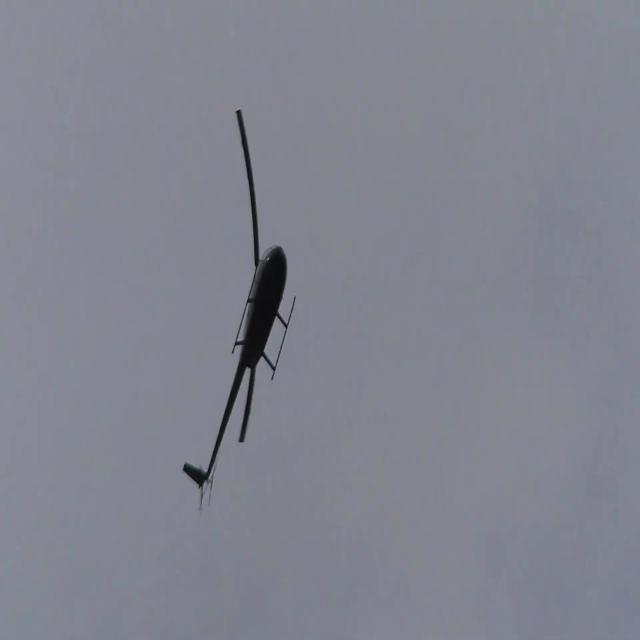CIV_HELO: (183, 243, 297, 489)
